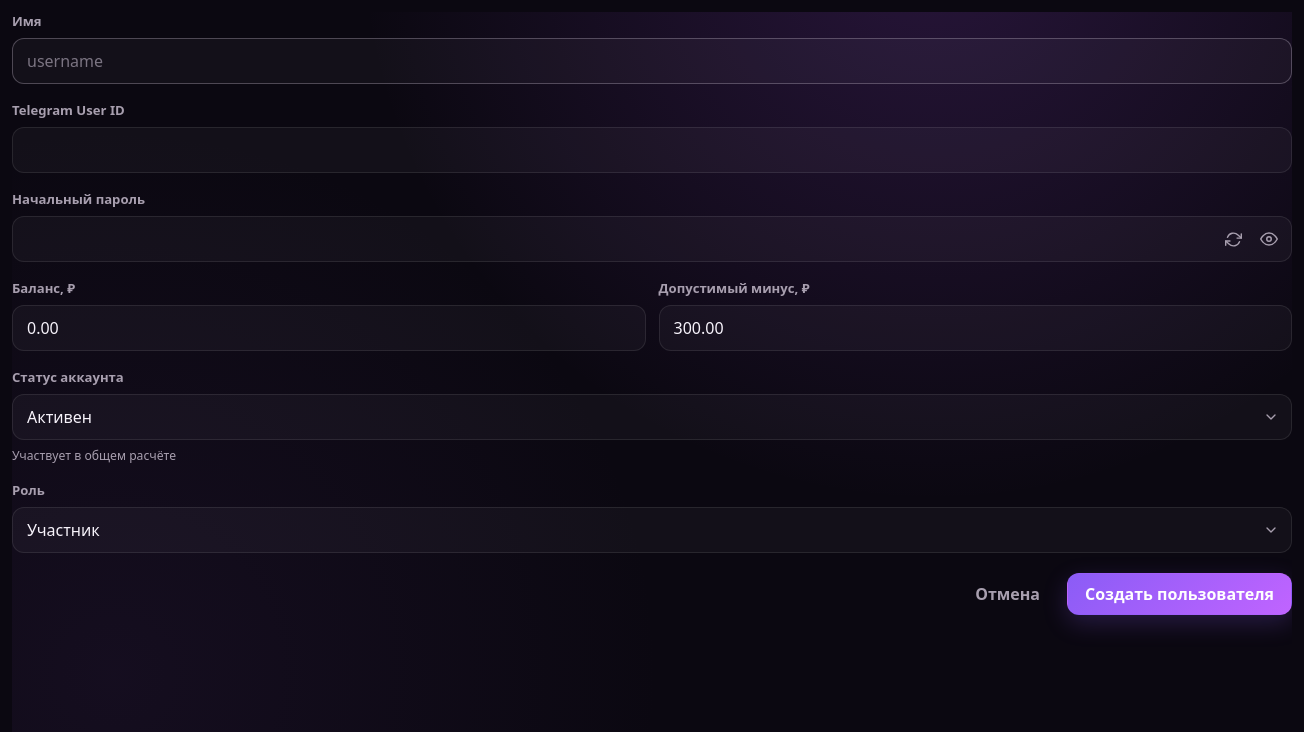
Test case: UserForm › generates and reveals an initial password for a new user
Click the button named "Сгенерировать пароль" at (1233, 239), box [1216,222,1250,256]
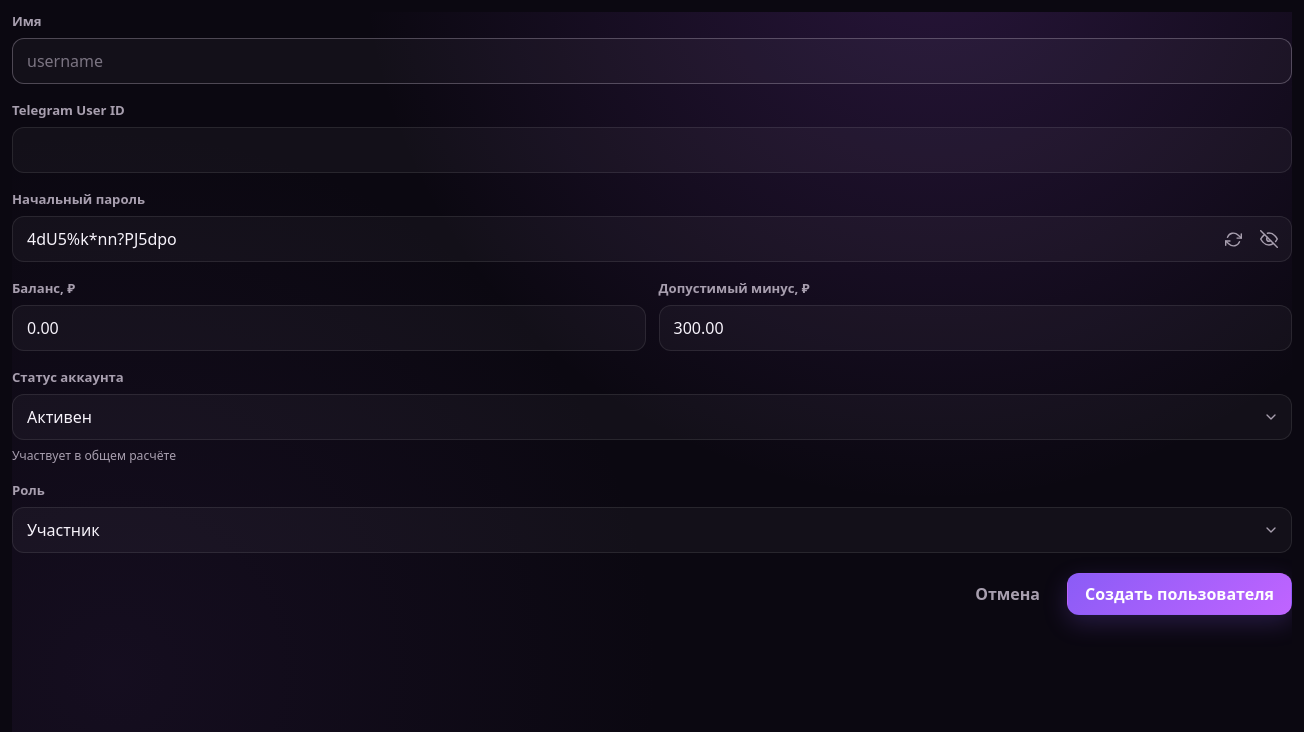
Expected: the number field labelled "Допустимый минус, ₽" holds "300", [658,305,1292,351]
Expected: the field labelled "Начальный пароль" is not empty, [12,216,1292,262]
Expected: the field labelled "Начальный пароль" shows its text, [12,216,1292,262]
